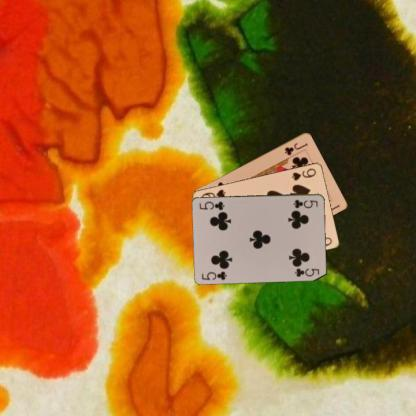5c: (199, 269, 228, 281), (291, 197, 319, 209)
9s: (290, 166, 317, 182)
Jc: (282, 140, 308, 156)
